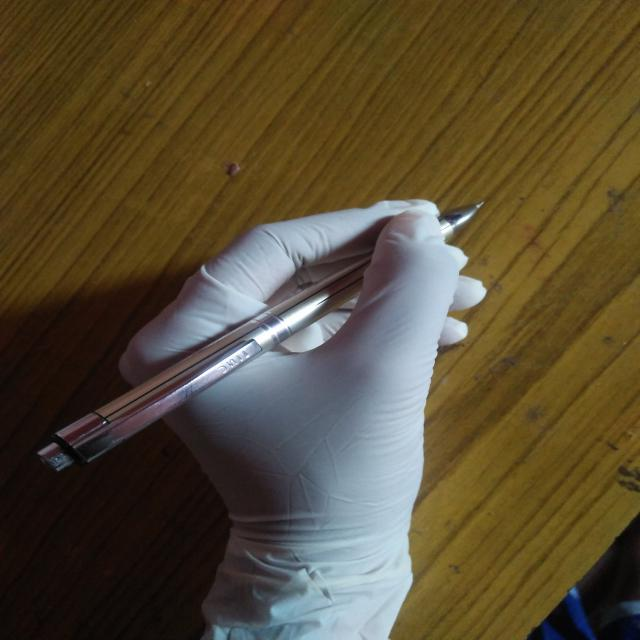gloved_hand: (110, 182, 496, 639)
